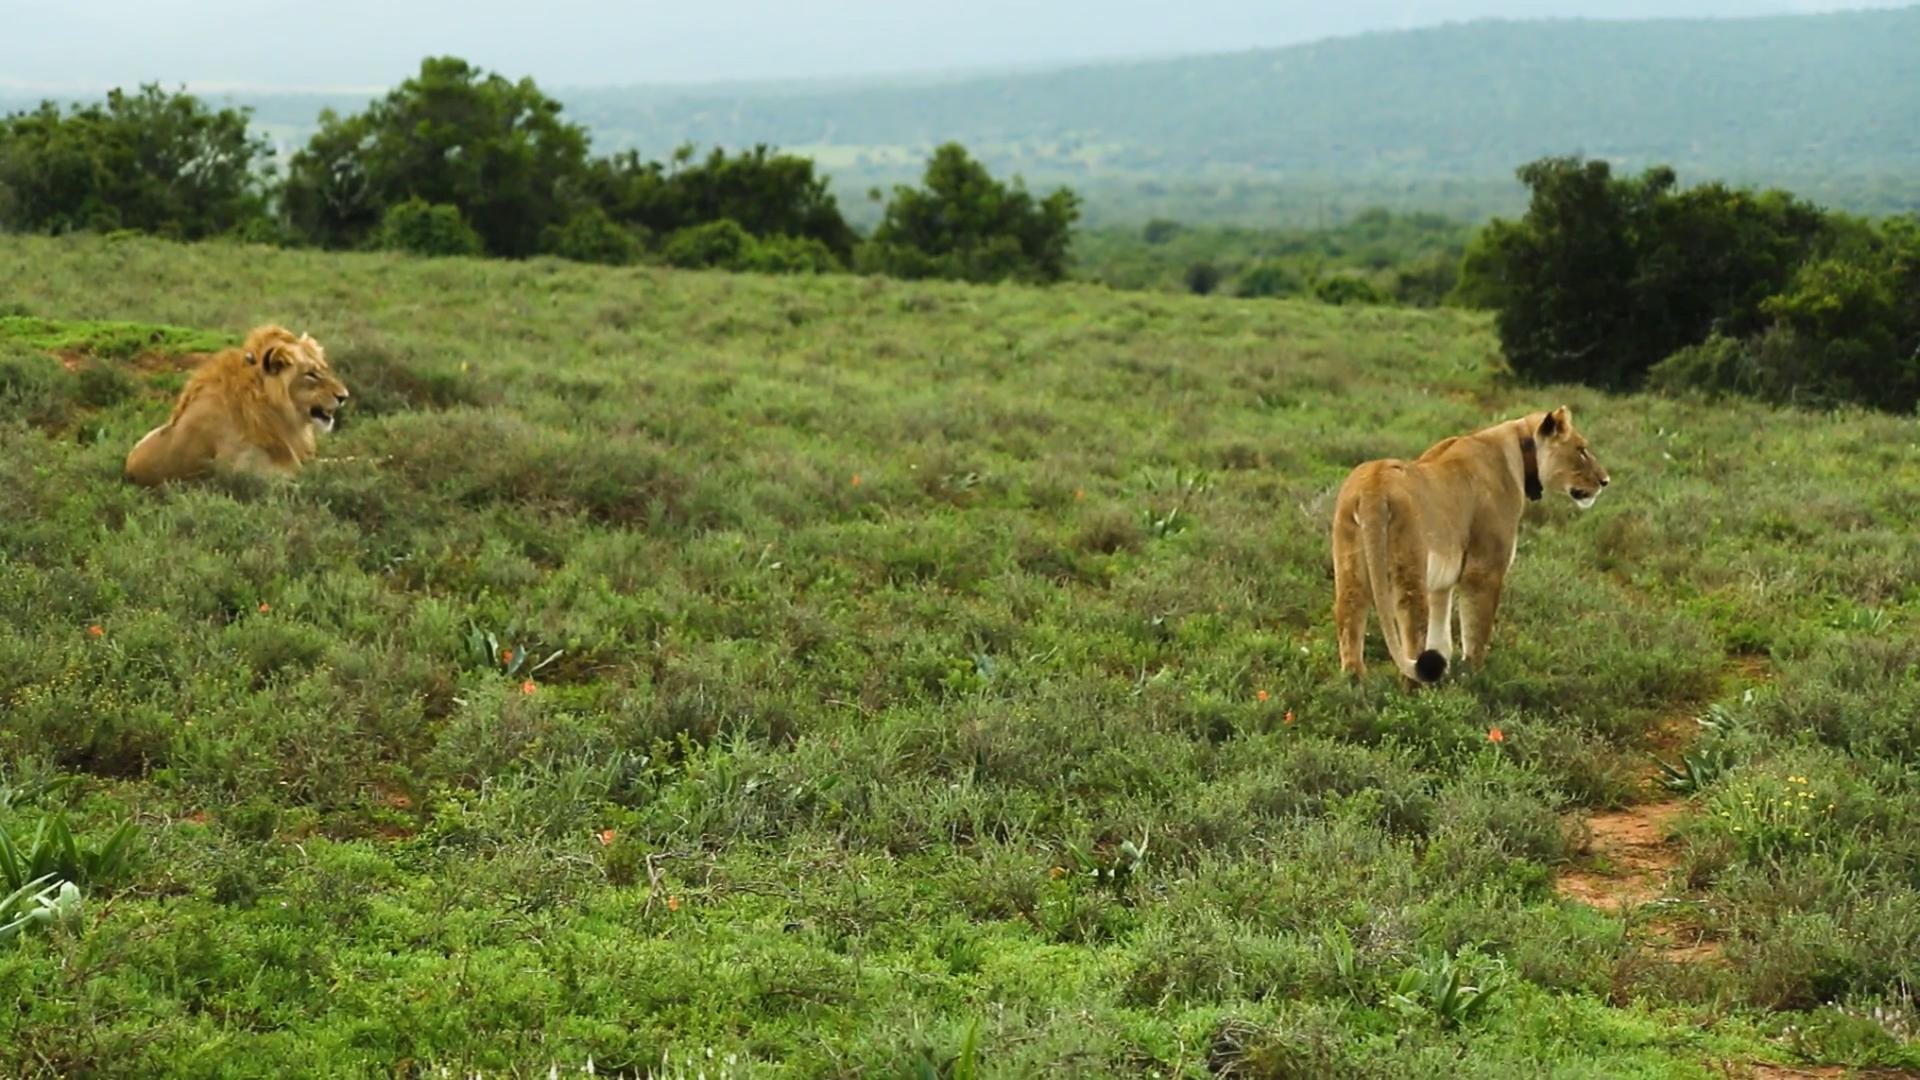lions: (1275, 406, 1638, 754), (117, 261, 386, 572)
